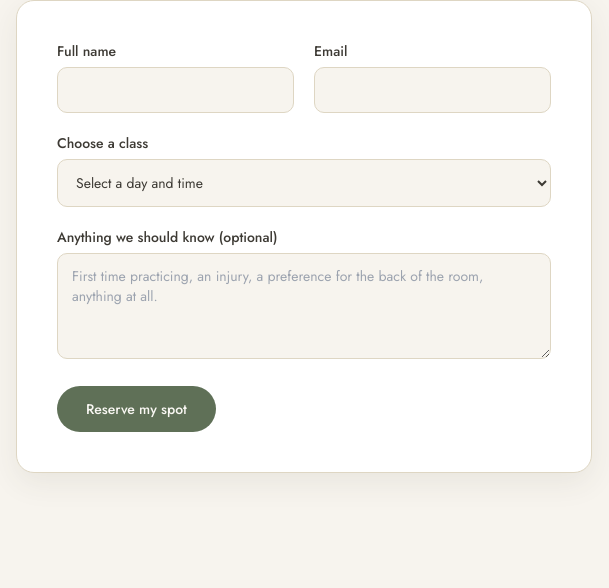
Test: GroupClassSignupForm › confirms the reservation once name, email, and a class are filled in
In the field labelled "Full name": coordinates (176, 90) [57,67,294,113], type "Jordan Reyes"
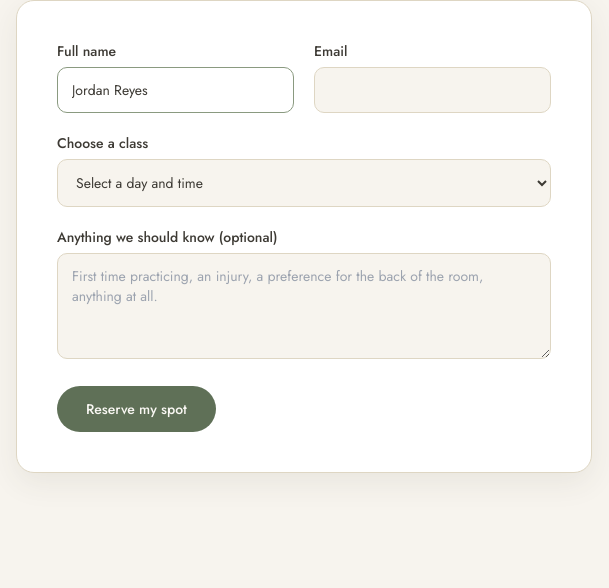
In the field labelled "Email": coordinates (432, 90) [314,67,551,113], type "jordan@example.com"
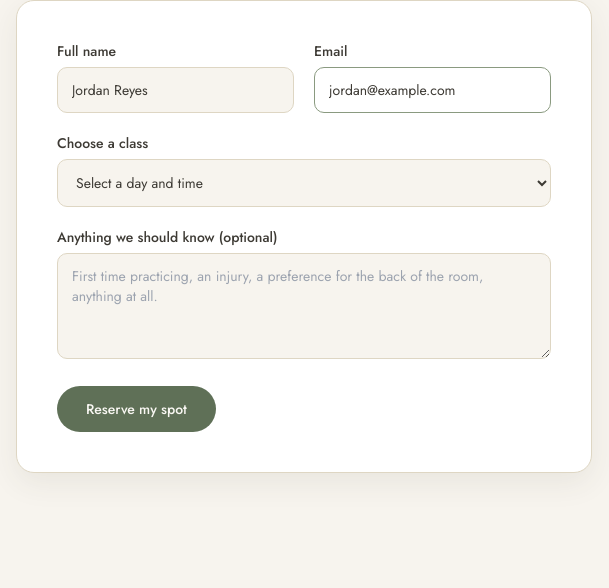
Select "Monday 7:00 – 8:00 AM, Vinyasa Flow (Maya Torres)" in the dropdown labelled "Choose a class": coordinates (304, 183) [57,159,551,207]
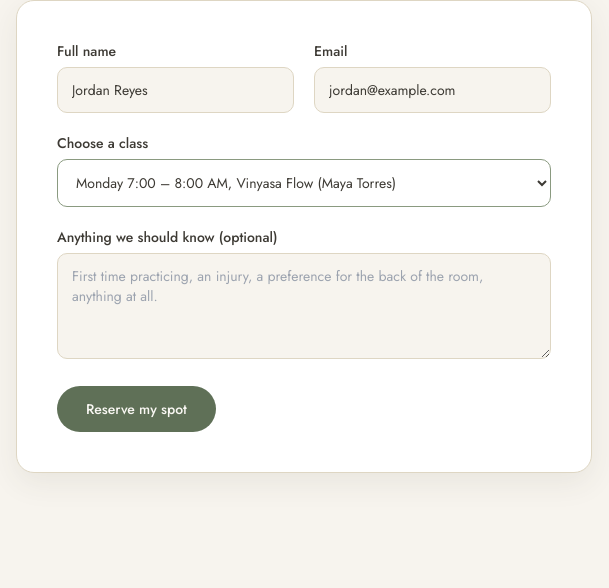
Click the button "Reserve my spot": coordinates (136, 409) [57,386,216,432]
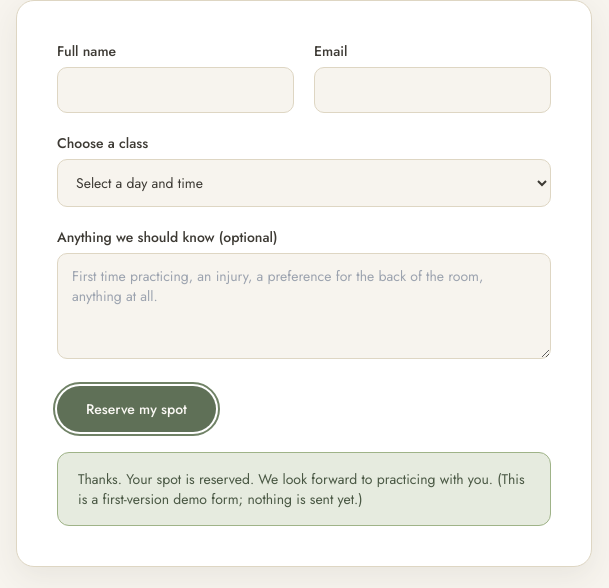
Now the message shows "spot is reserved", box [78,469,525,509]
